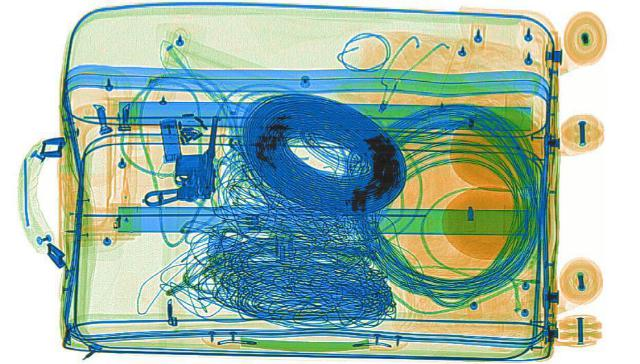Gun: (136, 108, 252, 210)
